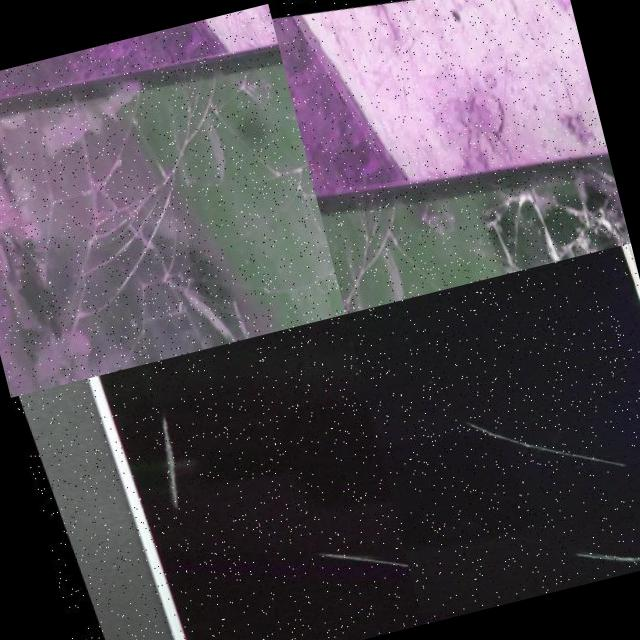scratch: (448, 373, 620, 495), (304, 526, 414, 616), (130, 407, 190, 515), (562, 524, 640, 573)
screen crack: (0, 10, 344, 397), (308, 99, 630, 314)
